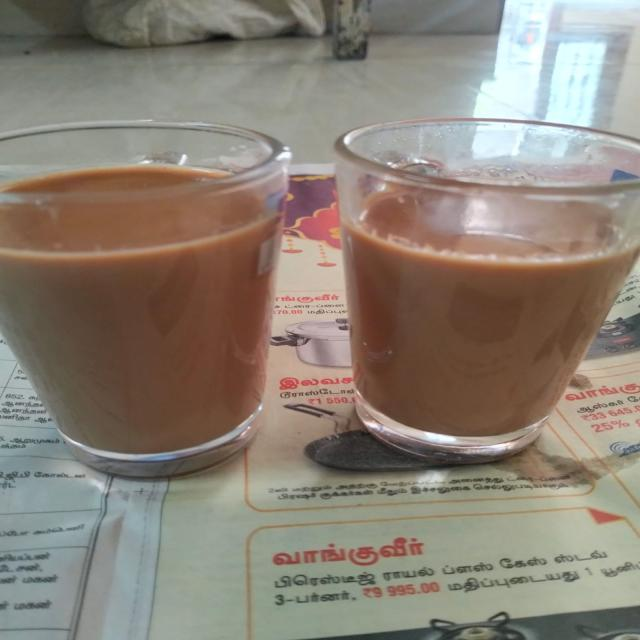glass-VX4N: (327, 117, 640, 467), (0, 125, 278, 469)
